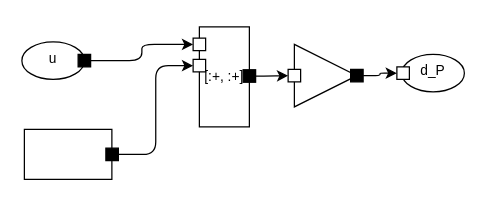
This 486x201 diagram has some shape labels left out. The centre of each missing label's shape, as x and y in pixels:
(2^m-1)/(u_max-u_min): the point at 325,75
u_min: the point at 67,153
